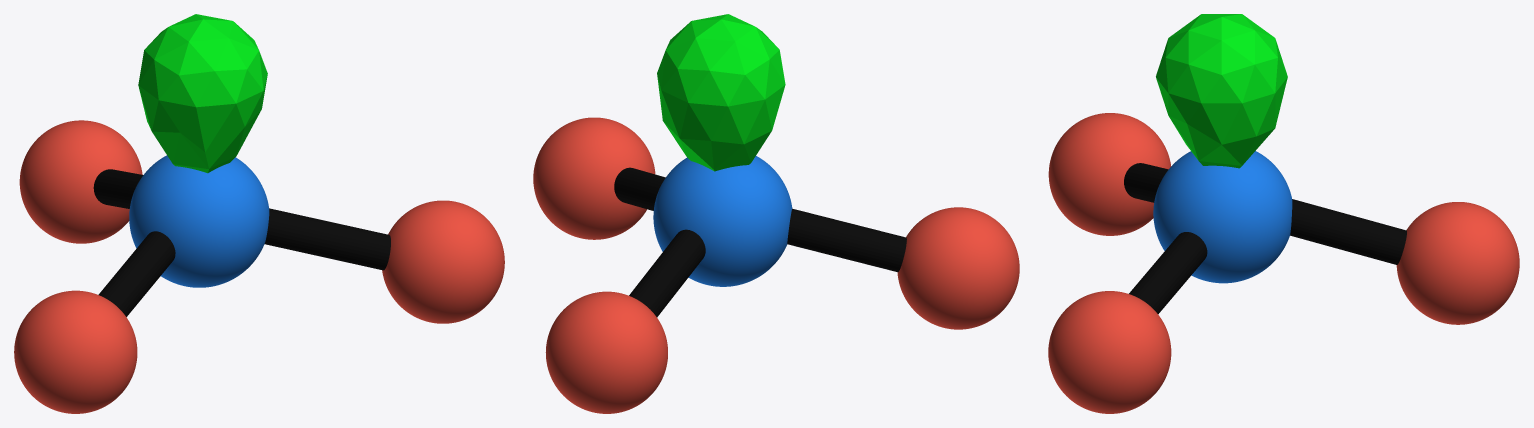
The model's file is chem stru(trigonal planar) (1).glb.
3 renders of one model, left to right at view 1: azimuth 30°, elevation 25°; view 2: azimuth 150°, elevation 25°; view 3: azimuth 270°, elevation 25°, orthographic.
Parts seen in each view (by area): view 1: Icosphere, Sphere, Sphere.002, Sphere.003, Sphere.001, Cylinder.001, Cylinder.002, Cylinder; view 2: Icosphere, Sphere, Sphere.001, Sphere.002, Sphere.003, Cylinder.002, Cylinder, Cylinder.001; view 3: Icosphere, Sphere, Sphere.003, Sphere.001, Sphere.002, Cylinder, Cylinder.001, Cylinder.002.
Boxes of the visible parts, box(x1,y1,x2,y2) form: Icosphere: box(138, 14, 267, 173); Sphere: box(129, 155, 269, 287); Sphere.002: box(14, 290, 137, 413); Sphere.003: box(382, 200, 504, 323); Sphere.001: box(19, 120, 142, 243); Cylinder.001: box(264, 208, 390, 270); Cylinder.002: box(98, 231, 175, 316); Cylinder: box(93, 169, 143, 208); Icosphere: box(657, 14, 785, 171); Sphere: box(653, 156, 792, 286); Sphere.001: box(545, 291, 667, 413); Sphere.002: box(897, 207, 1019, 329); Sphere.003: box(533, 117, 655, 239); Cylinder.002: box(787, 208, 906, 272); Cylinder: box(629, 229, 705, 317); Cylinder.001: box(614, 167, 665, 210); Icosphere: box(1156, 14, 1287, 168); Sphere: box(1153, 151, 1292, 283); Sphere.003: box(1048, 291, 1171, 413); Sphere.001: box(1396, 202, 1519, 324); Sphere.002: box(1048, 113, 1171, 235); Cylinder: box(1290, 199, 1406, 264); Cylinder.001: box(1129, 232, 1207, 314); Cylinder.002: box(1124, 163, 1168, 202).
Size of the model in its own units: 3.65 by 2.24 by 3.15.
